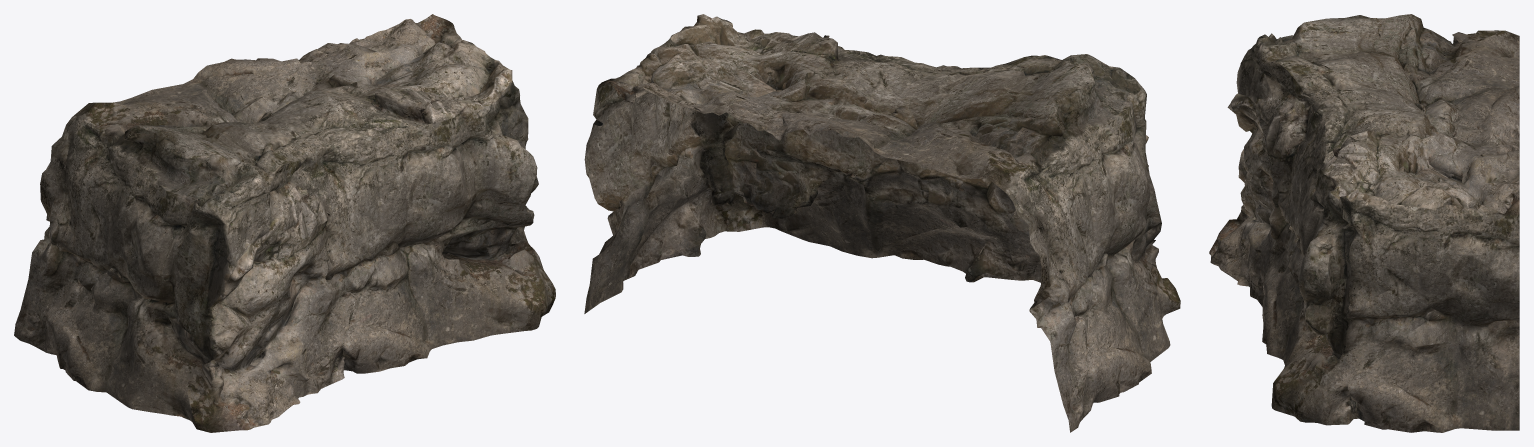
Rendered from SM_wj2odfyga_tier_2.gltf.
The picture shows the model from 3 angles, left to right: view 1: azimuth 30°, elevation 25°; view 2: azimuth 150°, elevation 25°; view 3: azimuth 270°, elevation 25°; orthographic projection. The views are drawn at different scales.
Parts seen in each view (by area): view 1: wj2odfyga_LOD2_TIER2_000; view 2: wj2odfyga_LOD2_TIER2_000; view 3: wj2odfyga_LOD2_TIER2_000.
Boxes of the visible parts, <box> form: wj2odfyga_LOD2_TIER2_000: <box>14,14,555,432</box>; wj2odfyga_LOD2_TIER2_000: <box>584,14,1180,432</box>; wj2odfyga_LOD2_TIER2_000: <box>1209,14,1519,432</box>.
Size of the model in its own units: 8.97 by 4.49 by 5.33.
1 material, 1 textured.
